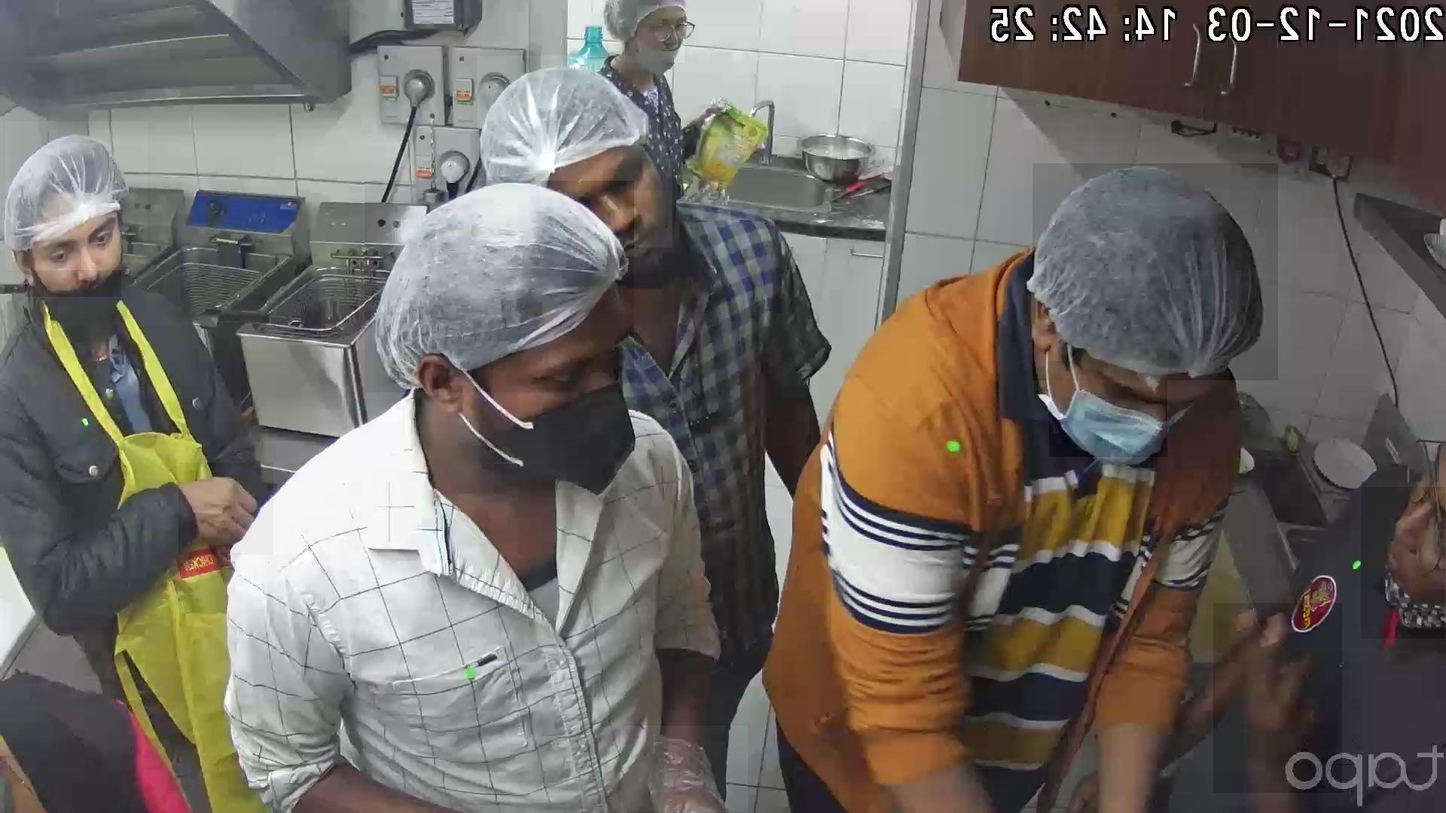apron: (621, 726, 748, 813)
gloves: (365, 181, 634, 393), (1033, 164, 1278, 381), (477, 56, 666, 190), (6, 121, 148, 270)
mask: (480, 379, 635, 492), (1049, 362, 1167, 457)
no_apron: (1213, 603, 1342, 793), (179, 463, 274, 555)
no_hairnet: (1362, 487, 1446, 639), (575, 154, 673, 248), (25, 223, 122, 297), (638, 6, 685, 63)
